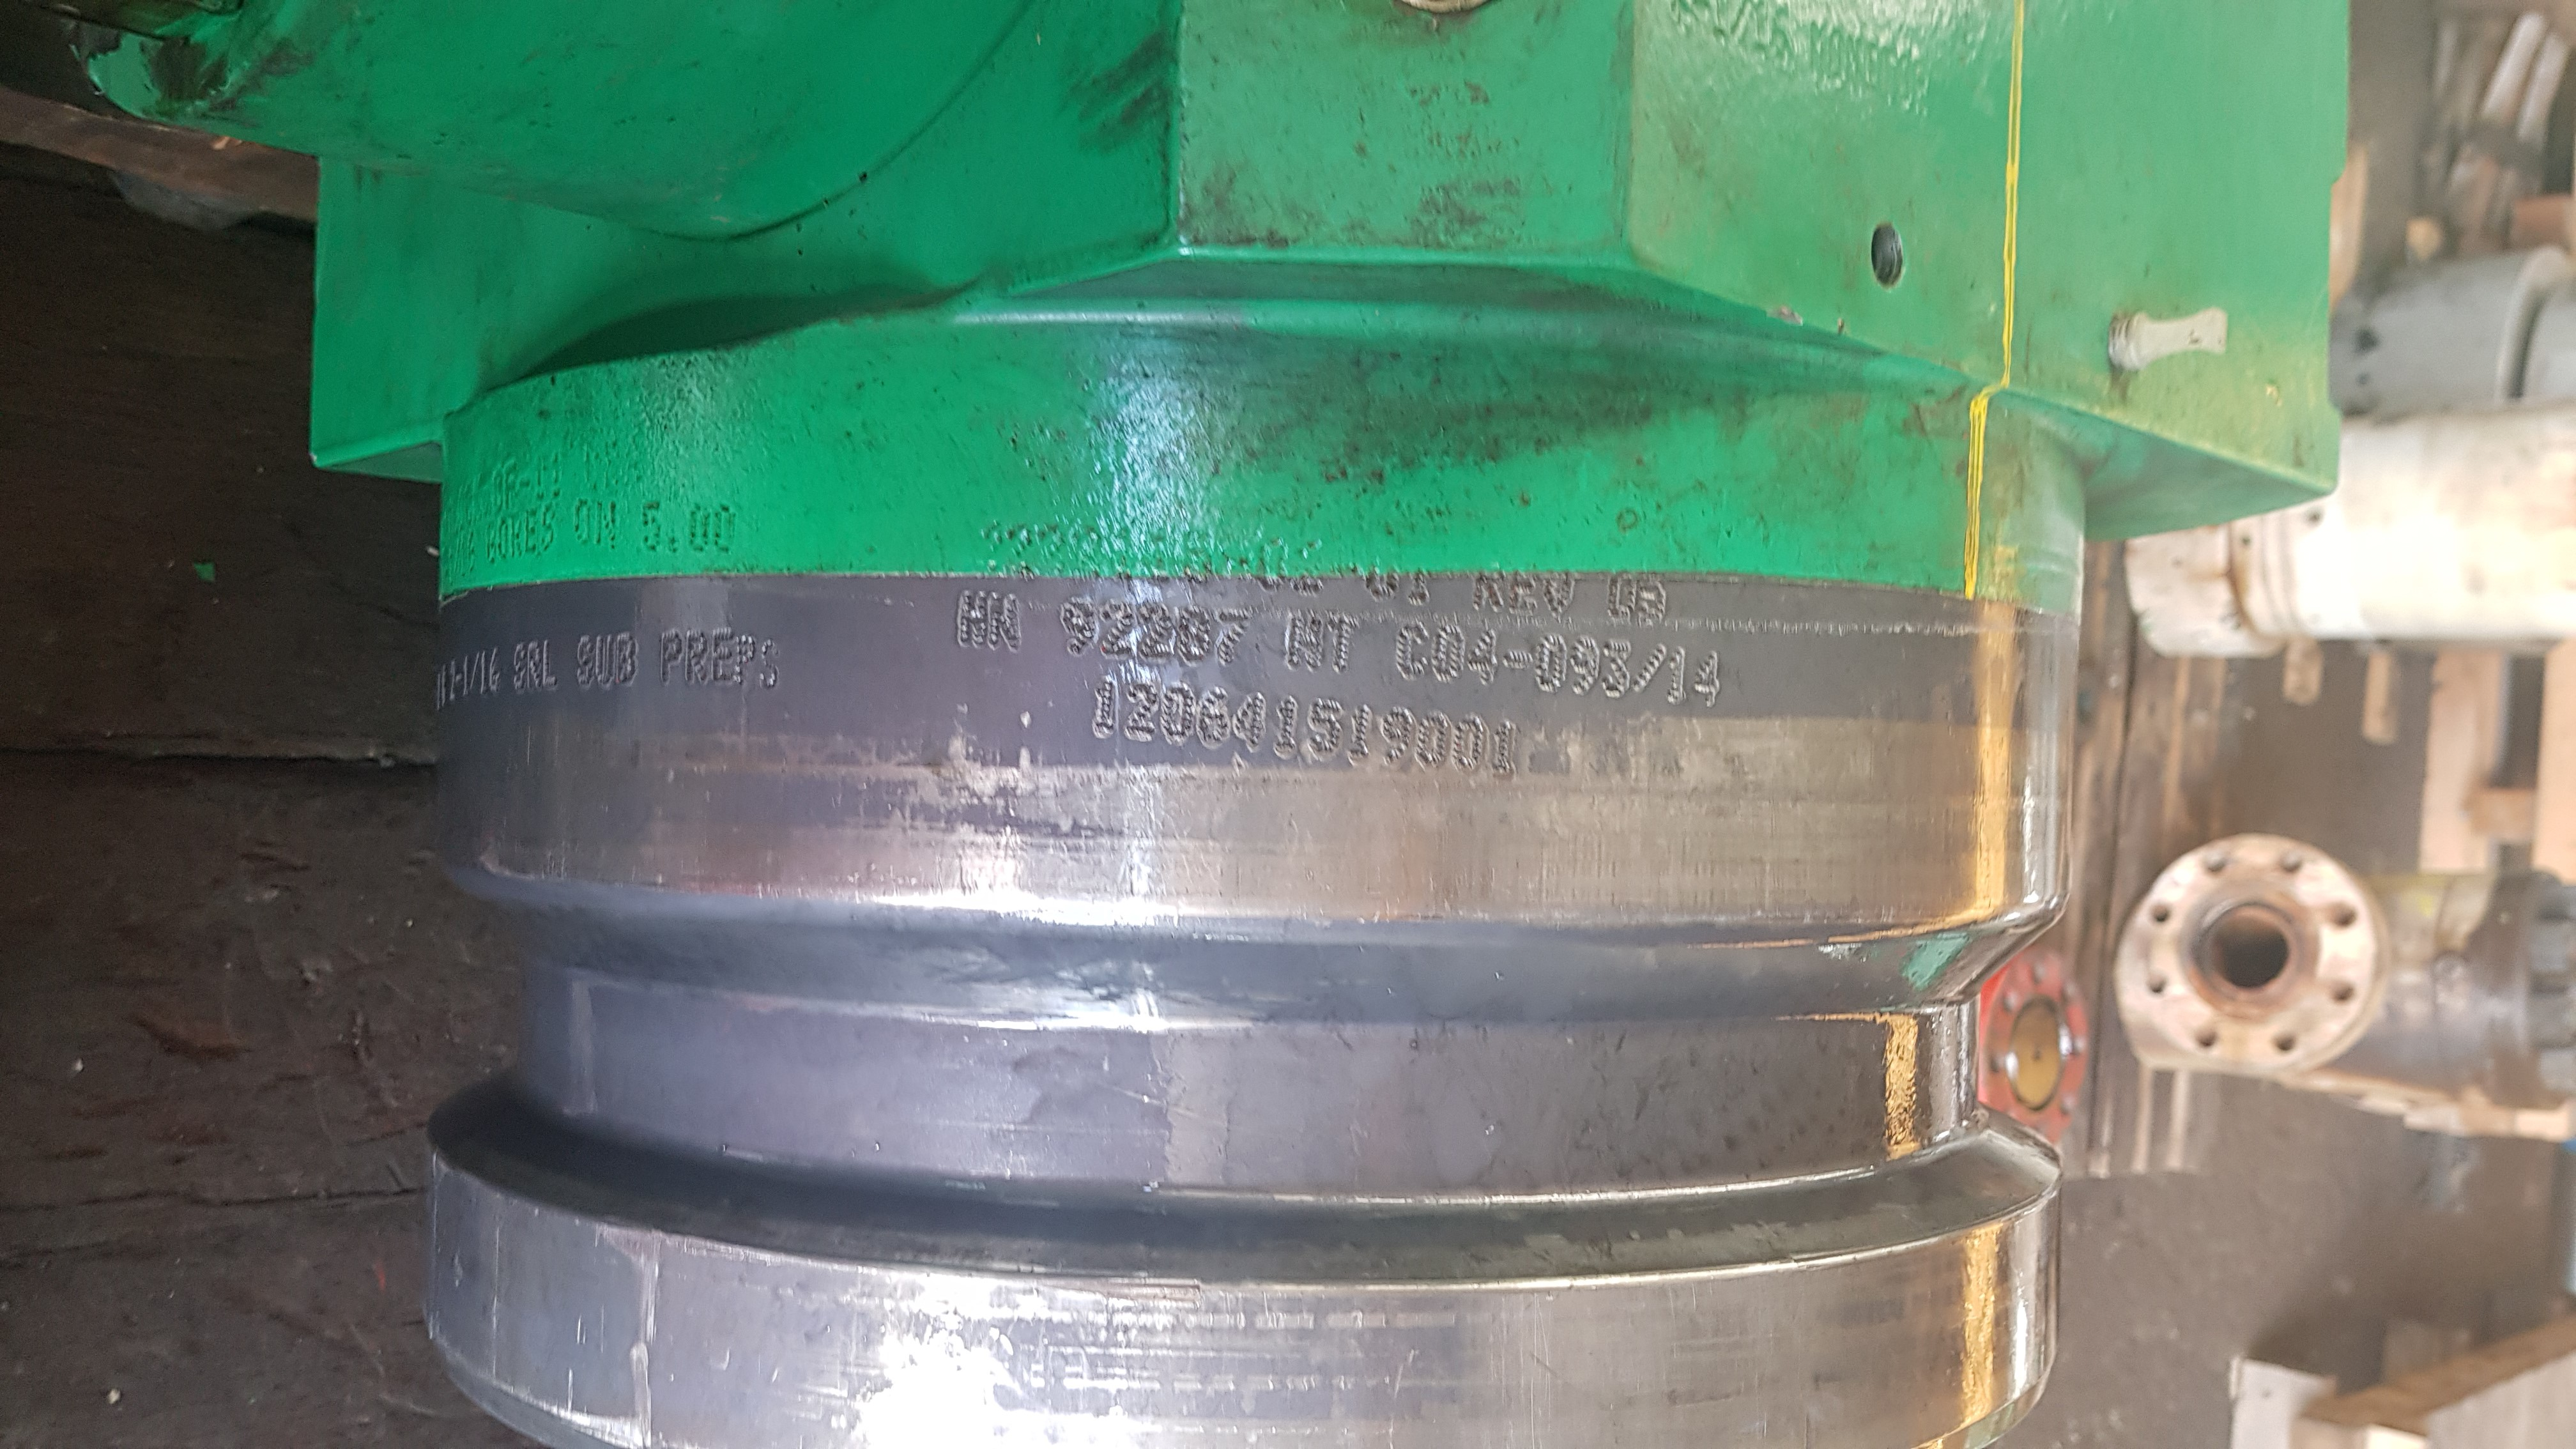character: (1302, 695, 1345, 764), (1414, 708, 1456, 777), (989, 586, 1028, 656), (1175, 593, 1210, 671), (1325, 607, 1364, 678), (1208, 603, 1251, 667), (1451, 713, 1493, 777), (1194, 683, 1231, 754), (1231, 692, 1274, 754), (1490, 715, 1527, 786), (1060, 594, 1099, 662), (1272, 692, 1306, 770), (1136, 594, 1171, 667), (1157, 681, 1194, 750), (1378, 701, 1412, 777), (952, 586, 991, 651), (1428, 621, 1467, 686), (1690, 649, 1732, 708), (1086, 674, 1120, 743), (1569, 630, 1601, 702), (1598, 639, 1633, 702), (1288, 612, 1325, 672), (1394, 619, 1430, 681), (1532, 632, 1568, 694), (1633, 640, 1670, 699), (1125, 676, 1155, 747), (1467, 623, 1499, 688), (1100, 598, 1132, 658), (1346, 702, 1373, 764), (1667, 644, 1691, 708), (1500, 648, 1534, 674)
